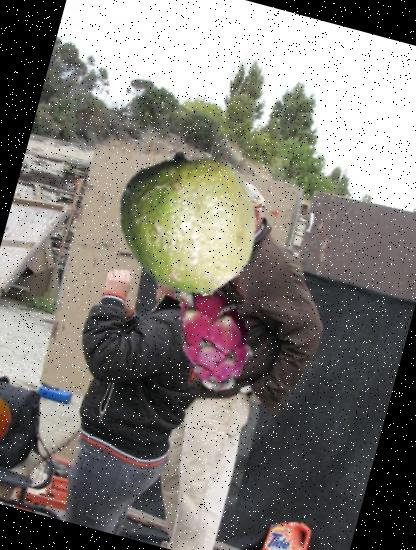Limes: (98, 136, 278, 314)
Mandarine: (0, 385, 18, 452)
Pitahaya: (141, 266, 282, 407)
